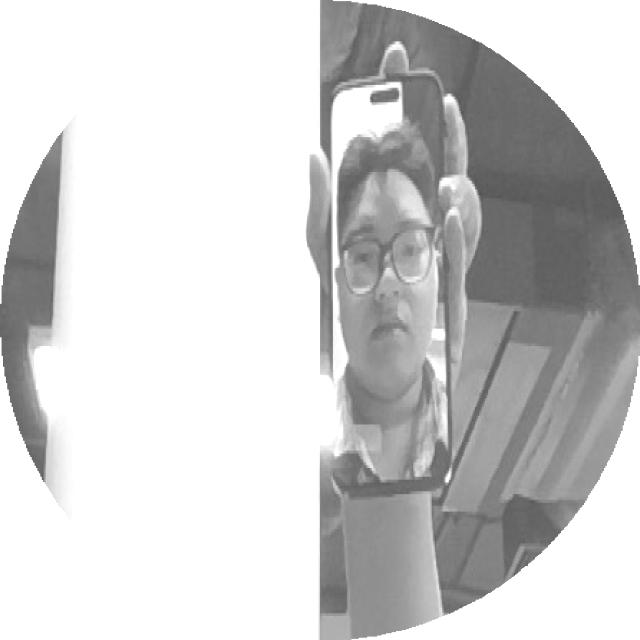fake: (270, 60, 524, 516), (309, 63, 464, 504)
